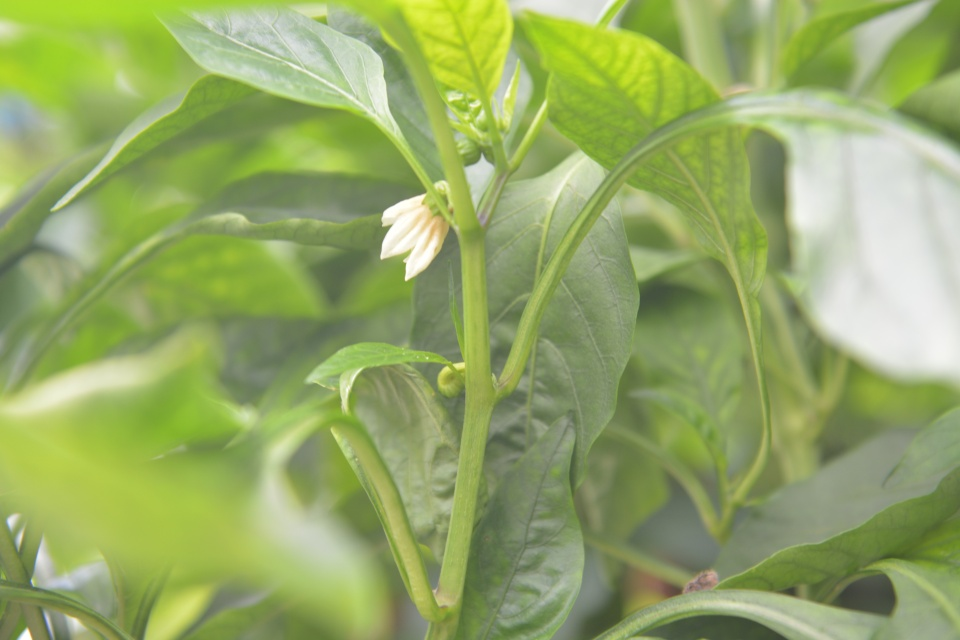flower: (378, 189, 454, 282)
